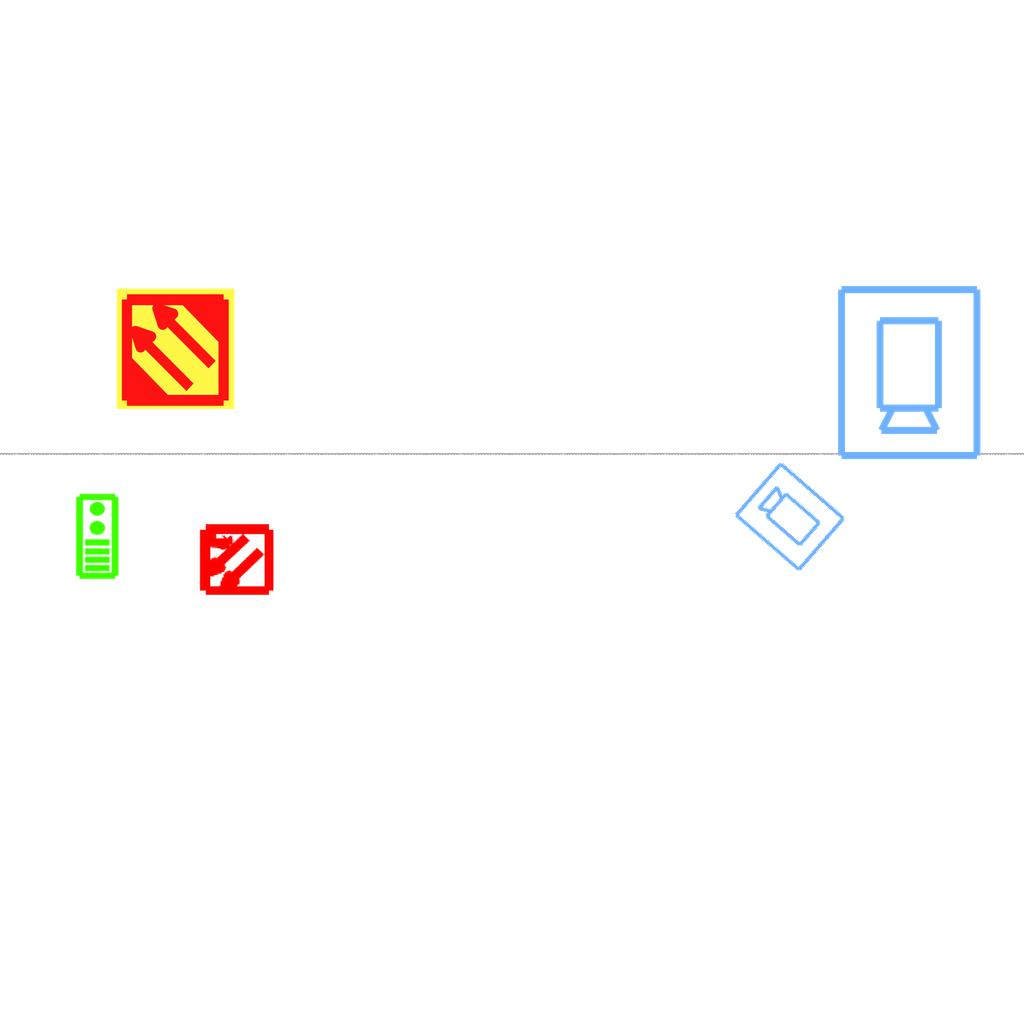ASR_Ansaugrauchmelder: (113, 286, 238, 411)
Gegensprechanlage_mit_Video: (73, 492, 120, 580)
KFO_Kamera_mit_Festobjektiv: (831, 281, 985, 463), (730, 457, 851, 576)
OT_Multisensormelder_(Kombination_RMO_WMD): (178, 503, 291, 616)
